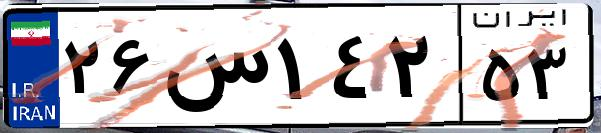1: (270, 28, 330, 110)
2: (385, 28, 445, 110), (57, 26, 110, 100)
3: (525, 38, 570, 115)
4: (330, 28, 385, 110)
5: (475, 38, 525, 113)
6: (110, 28, 158, 98)
س: (158, 20, 270, 120)
